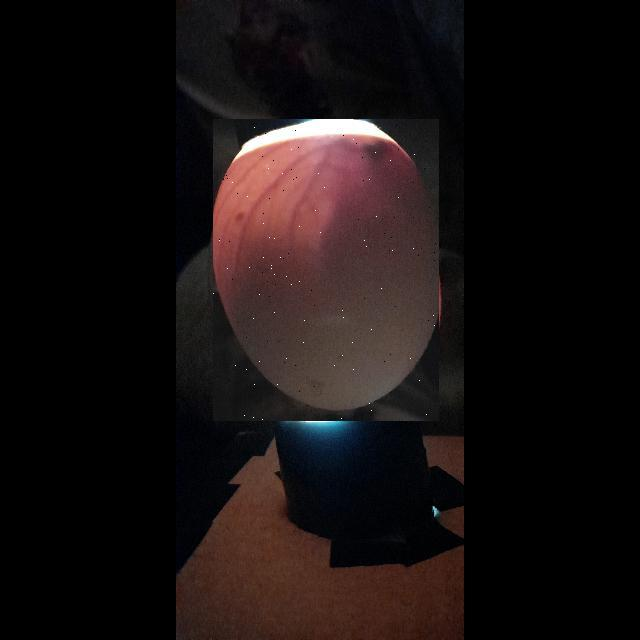Fertile: (213, 119, 439, 421)
